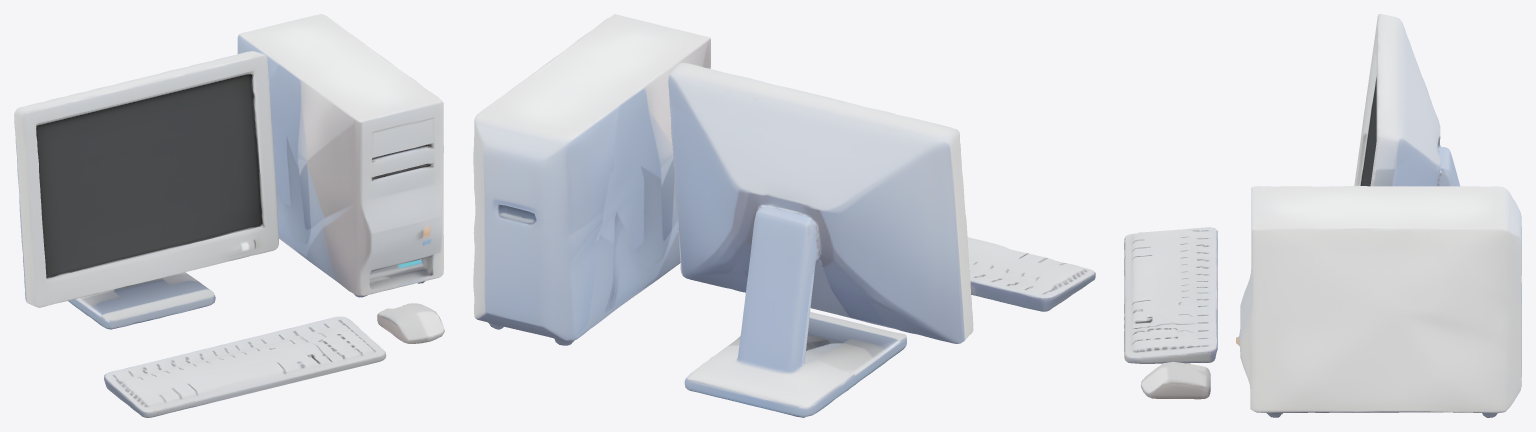
Rendered from base_basic_shaded.fbx.
The picture shows the model from 3 angles, left to right: view 1: azimuth 30°, elevation 25°; view 2: azimuth 150°, elevation 25°; view 3: azimuth 270°, elevation 25°; orthographic projection. The views are drawn at different scales.
Parts seen in each view (by area): view 1: model; view 2: model; view 3: model.
Boxes of the visible parts, x1,y1,x2,y2 form: model: [14, 14, 444, 417]; model: [473, 14, 1095, 417]; model: [1124, 14, 1521, 417].
Size of the model in its own units: 191 by 109 by 171.
